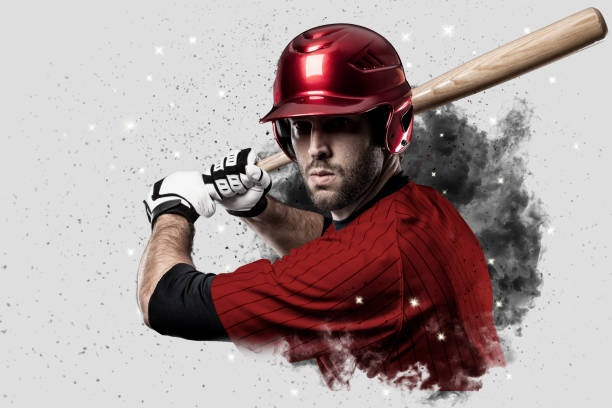bita: (408, 11, 603, 112)
